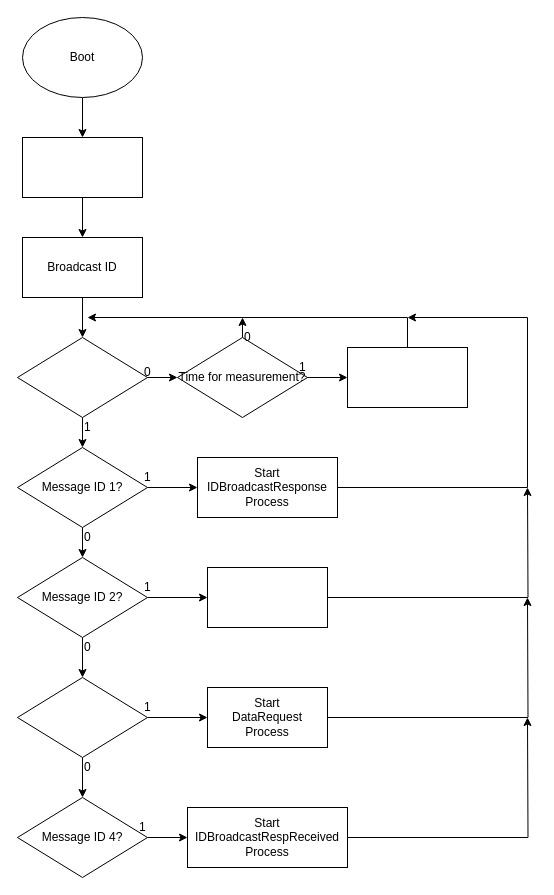
The diagram is 554 pixels wide and 895 high, and some of its shapes have lost their labels. The shapes that lost their labels are listed below. From the top down, each one's centre as x and y in pixels, then its label:
At pixel 82 167: "Initialize".
At pixel 82 377: "Recieved Message?".
At pixel 407 377: "Measure".
At pixel 267 597: "Start Routingupdate Process".
At pixel 82 717: "Message ID 3?".
